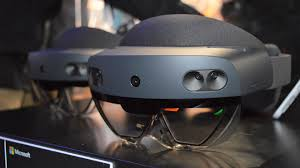hololens: (88, 13, 293, 152), (17, 27, 126, 124)
